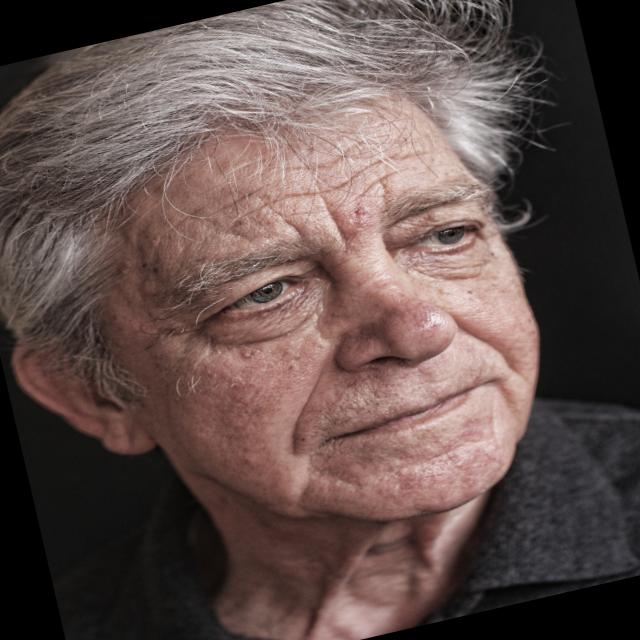face: (0, 0, 629, 597)
